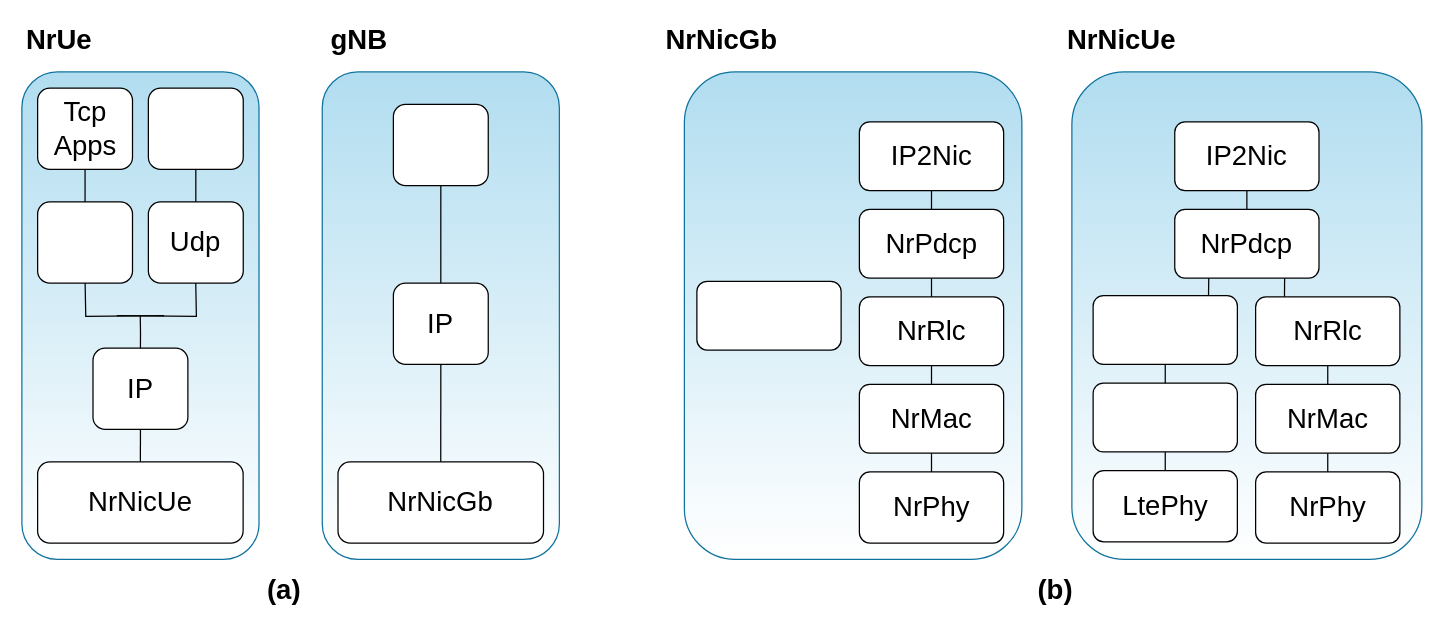
This 1444x630 diagram has some shape labels left out. Each missing label, with the centre of its shape:
LteMac: (x=1164, y=417)
LteRlc: (x=1164, y=329)
PPP: (x=440, y=144)
Tcp: (x=84, y=242)
Udp Apps: (x=195, y=128)
X2 Manager: (x=768, y=315)
